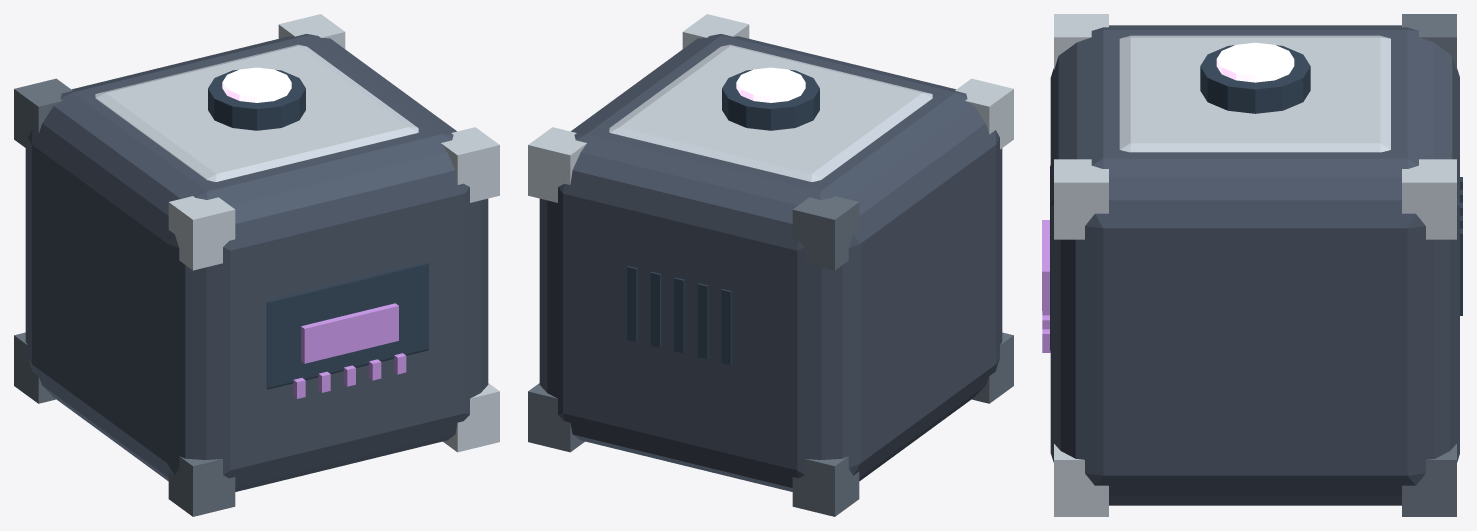
File: box_mystery_detail.glb
The picture shows the model from 3 angles, left to right: view 1: azimuth 30°, elevation 25°; view 2: azimuth 150°, elevation 25°; view 3: azimuth 270°, elevation 25°; orthographic projection. The views are drawn at different scales.
Parts seen in each view (by area): view 1: sci_fi_chassis, reinforced_lid, front_interface_armor, outer_corner_joint_011, front_hologram_window, top_lock, outer_corner_joint_010, outer_corner_joint_111, outer_corner_joint_110, outer_corner_joint_001, top_lock_energy, outer_corner_joint_000 (+1 smaller); view 2: sci_fi_chassis, reinforced_lid, outer_corner_joint_001, top_lock, outer_corner_joint_000, outer_corner_joint_101, outer_corner_joint_100, outer_corner_joint_011, top_lock_energy, outer_corner_joint_010, outer_corner_joint_111, rear_heat_vents_-1 (+4 smaller); view 3: sci_fi_chassis, reinforced_lid, top_lock, outer_corner_joint_101, outer_corner_joint_111, outer_corner_joint_100, outer_corner_joint_110, top_lock_energy, outer_corner_joint_001, outer_corner_joint_011, front_hologram_window.
Part boxes in pixels (x1=…): sci_fi_chassis: x1=25, y1=34, x2=488, y2=491; reinforced_lid: x1=95, y1=44, x2=418, y2=181; front_interface_armor: x1=266, y1=262, x2=428, y2=389; outer_corner_joint_011: x1=168, y1=196, x2=235, y2=270; front_hologram_window: x1=301, y1=303, x2=398, y2=363; top_lock: x1=208, y1=69, x2=305, y2=130; outer_corner_joint_010: x1=168, y1=456, x2=235, y2=516; outer_corner_joint_111: x1=441, y1=127, x2=499, y2=202; outer_corner_joint_110: x1=443, y1=383, x2=499, y2=452; outer_corner_joint_001: x1=14, y1=78, x2=72, y2=149; top_lock_energy: x1=222, y1=67, x2=291, y2=102; outer_corner_joint_000: x1=14, y1=332, x2=55, y2=403; sci_fi_chassis: x1=539, y1=34, x2=1002, y2=491; reinforced_lid: x1=609, y1=44, x2=932, y2=181; outer_corner_joint_001: x1=792, y1=196, x2=859, y2=270; top_lock: x1=722, y1=69, x2=819, y2=130; outer_corner_joint_000: x1=792, y1=456, x2=859, y2=516; outer_corner_joint_101: x1=528, y1=127, x2=586, y2=202; outer_corner_joint_100: x1=528, y1=383, x2=584, y2=452; outer_corner_joint_011: x1=955, y1=78, x2=1013, y2=149; top_lock_energy: x1=736, y1=67, x2=805, y2=102; outer_corner_joint_010: x1=972, y1=332, x2=1013, y2=403; outer_corner_joint_111: x1=682, y1=14, x2=749, y2=48; rear_heat_vents_-1: x1=697, y1=283, x2=708, y2=359; sci_fi_chassis: x1=1050, y1=25, x2=1459, y2=505; reinforced_lid: x1=1119, y1=35, x2=1390, y2=152; top_lock: x1=1200, y1=45, x2=1310, y2=113; outer_corner_joint_101: x1=1402, y1=159, x2=1456, y2=239; outer_corner_joint_111: x1=1054, y1=159, x2=1108, y2=239; outer_corner_joint_100: x1=1402, y1=444, x2=1456, y2=516; outer_corner_joint_110: x1=1054, y1=444, x2=1108, y2=516; top_lock_energy: x1=1216, y1=42, x2=1294, y2=82; outer_corner_joint_001: x1=1402, y1=14, x2=1456, y2=69; outer_corner_joint_011: x1=1054, y1=14, x2=1108, y2=69; front_hologram_window: x1=1042, y1=220, x2=1049, y2=310.
Bounding box in the file's own units: 1.56 × 1.59 × 1.6.
